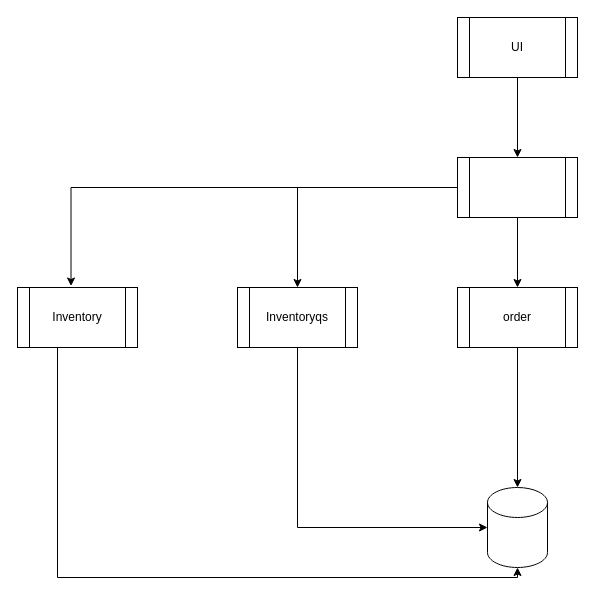
Image size: 595x603. Some labels were removed from this diagram. Each missing label, with the centre of its shape:
GW: point (517, 187)
mongoldb: point (517, 527)
